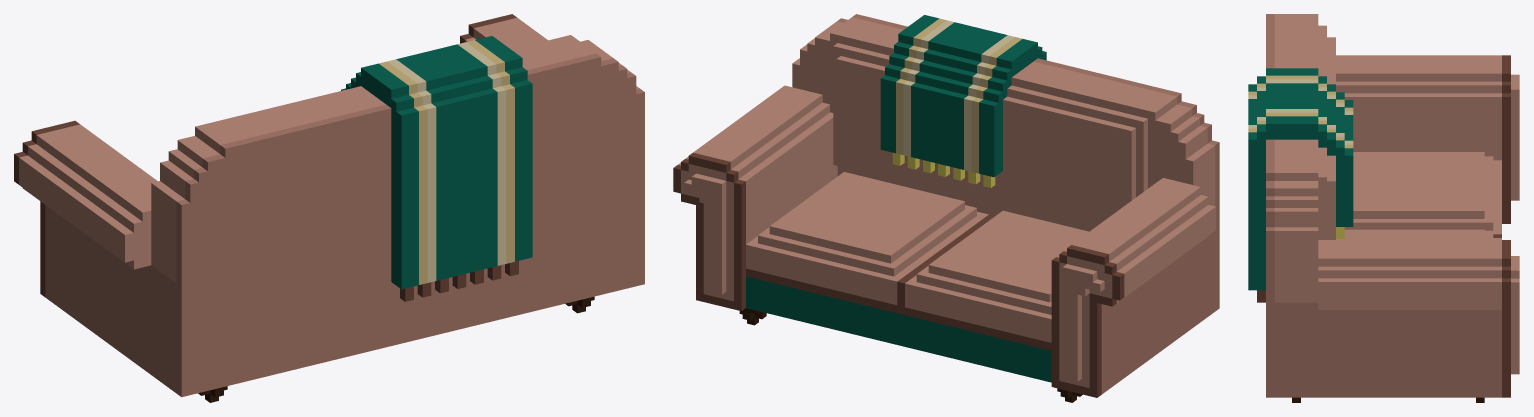
File: Green Sofa Couch.fbx
3 views of the same model, side by side, from view 1: azimuth 30°, elevation 25°; view 2: azimuth 150°, elevation 25°; view 3: azimuth 270°, elevation 25° (orthographic). The views are drawn at different scales.
Visible parts, largest first — view 1: model; view 2: model; view 3: model.
Part boxes in pixels (x1=…): model: x1=14, y1=14, x2=644, y2=402; model: x1=673, y1=14, x2=1219, y2=402; model: x1=1248, y1=14, x2=1519, y2=402.
Size of the model in its own units: 590 by 310 by 310.
